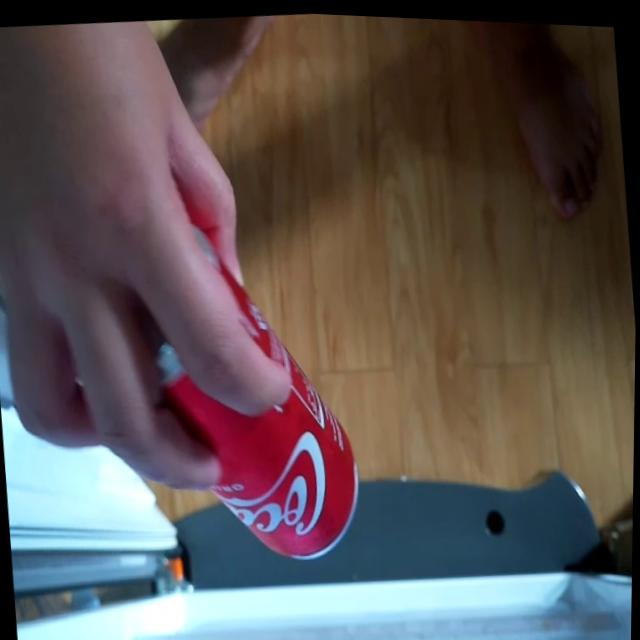coke: (126, 200, 370, 577)
